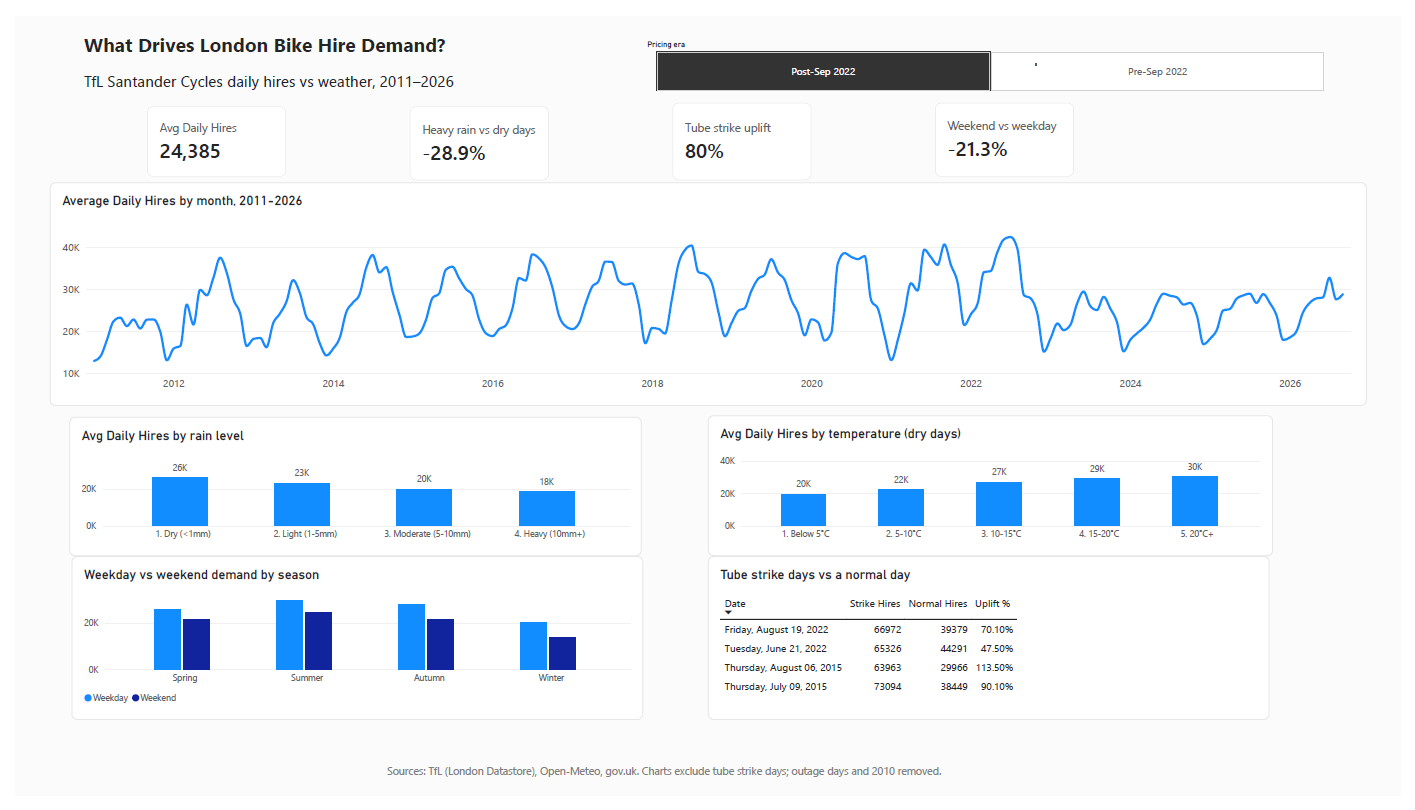

The dashboard page shown, as its layout file describes it:
{"tool":"powerbi","page":{"name":"Page 1","canvas":[1920,1080],"ordinal":0},"visuals":[{"type":"lineChart","title":"Average Daily Hires by month, 2011-2026","fields":{"Category":["daily_hires.Month Start"],"Y":["daily_hires.Avg Daily Hires"]},"box":[95,222.5,1825,310],"z":0},{"type":"textbox","box":[95,20,670,100],"z":1000},{"type":"slicer","fields":{"Values":["daily_hires.pricing_era"]},"box":[867.5,32.5,965,72.5],"z":2000},{"type":"cardVisual","fields":{"Data":["daily_hires.Weekend Gap %"]},"box":[1275,120,192.5,102.5],"z":3000},{"type":"cardVisual","fields":{"Data":["daily_hires.Avg Daily Hires"]},"box":[182.5,125,192.5,97.5],"z":4000},{"type":"cardVisual","fields":{"Data":["daily_hires.Rain Impact %"]},"box":[546.7,125,192.5,102.5],"z":5000},{"type":"cardVisual","fields":{"Data":["Strike Days.Avg Strike Uplift %"]},"box":[910.8,120,192.5,107.5],"z":6000},{"type":"clusteredColumnChart","title":"Avg Daily Hires by rain level","fields":{"Category":["daily_hires.Rain Level"],"Y":["daily_hires.Avg Daily Hires"]},"box":[75,555,792.5,192.5],"z":7000},{"type":"clusteredColumnChart","title":"Avg Daily Hires by temperature (dry days)","fields":{"Category":["daily_hires.Temp Band"],"Y":["daily_hires.Avg Daily Hires"]},"box":[960,552.5,782.5,195],"z":8000},{"type":"clusteredColumnChart","title":"Weekday vs weekend demand by season","fields":{"Category":["daily_hires.season"],"Series":["daily_hires.Day Type"],"Y":["daily_hires.Avg Daily Hires"]},"box":[77.5,747.5,792.5,227.5],"z":9000},{"type":"tableEx","title":"Tube strike days vs a normal day","fields":{"Values":["Strike Days.Date","Sum(Strike Days.Strike Hires)","Sum(Strike Days.Normal Hires)","Sum(Strike Days.Uplift %)"]},"box":[960,747.5,777.5,227.5],"z":10000},{"type":"textbox","box":[515,1035,1172.5,45],"z":11000}]}

Visuals, with their boxes in screenshot pixels (x1, y1, x2, y2), scaled from the page's 1920x1080 canvas onto the 1415x810 screenshot:
"Average Daily Hires by month, 2011-2026" lineChart: box(70, 167, 1414, 399)
textbox: box(70, 15, 564, 90)
slicer - daily_hires.pricing_era: box(639, 24, 1351, 79)
cardVisual - daily_hires.Weekend Gap %: box(940, 90, 1082, 167)
cardVisual - daily_hires.Avg Daily Hires: box(134, 94, 276, 167)
cardVisual - daily_hires.Rain Impact %: box(403, 94, 545, 171)
cardVisual - Strike Days.Avg Strike Uplift %: box(671, 90, 813, 171)
"Avg Daily Hires by rain level" clusteredColumnChart: box(55, 416, 639, 561)
"Avg Daily Hires by temperature (dry days)" clusteredColumnChart: box(708, 414, 1284, 561)
"Weekday vs weekend demand by season" clusteredColumnChart: box(57, 561, 641, 731)
"Tube strike days vs a normal day" tableEx: box(708, 561, 1281, 731)
textbox: box(380, 776, 1244, 809)
